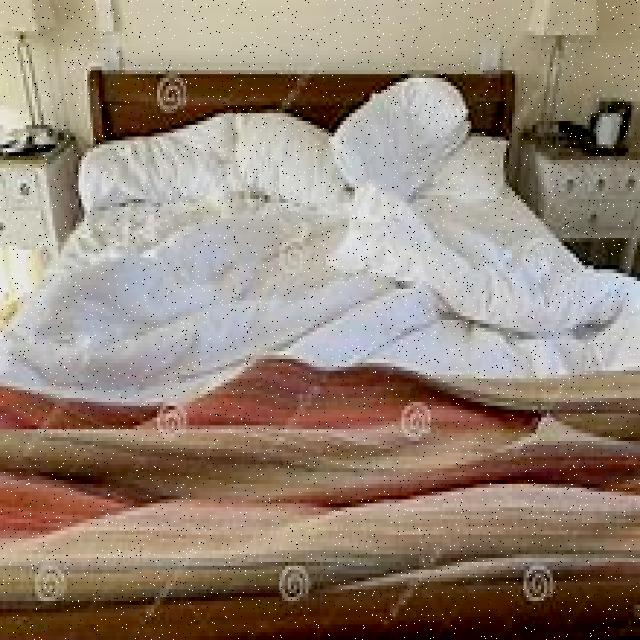bed: (4, 80, 640, 640)
